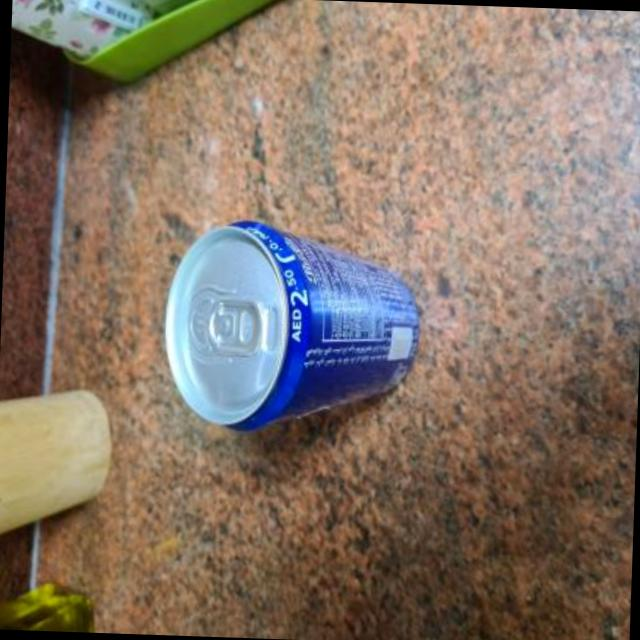metal: (162, 224, 414, 432)
